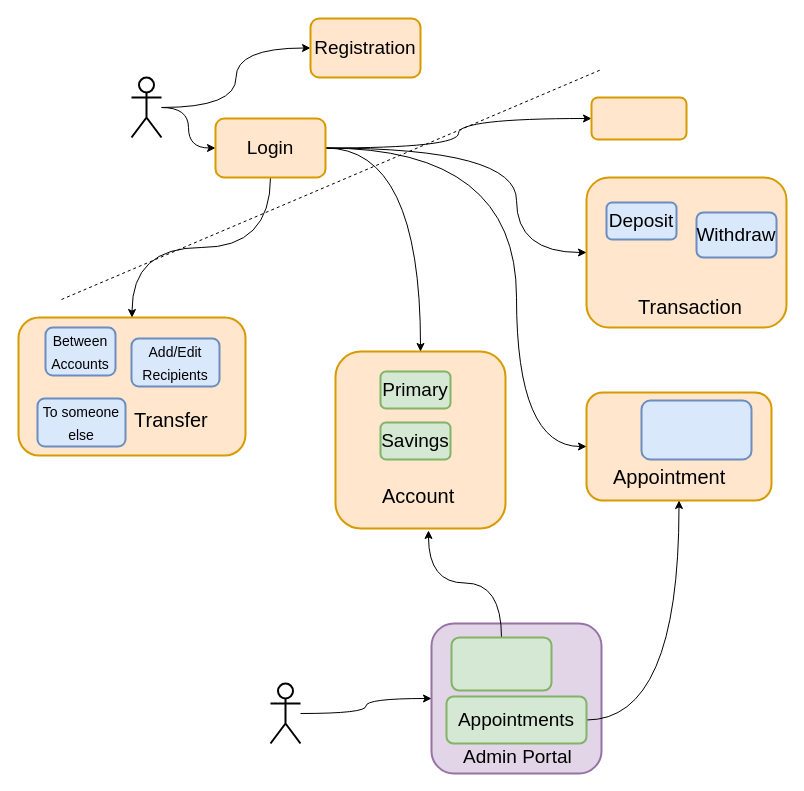
Some shapes in this 804 by 791 pixel diagram are drawn without their labels. Each missing label, with the centre of its shape:
"Admin" belongs at pixel 285 713.
"Profile" belongs at pixel 638 118.
"Schedule Appointment" belongs at pixel 696 429.
"User" belongs at pixel 146 107.
"User Account" belongs at pixel 501 663.
